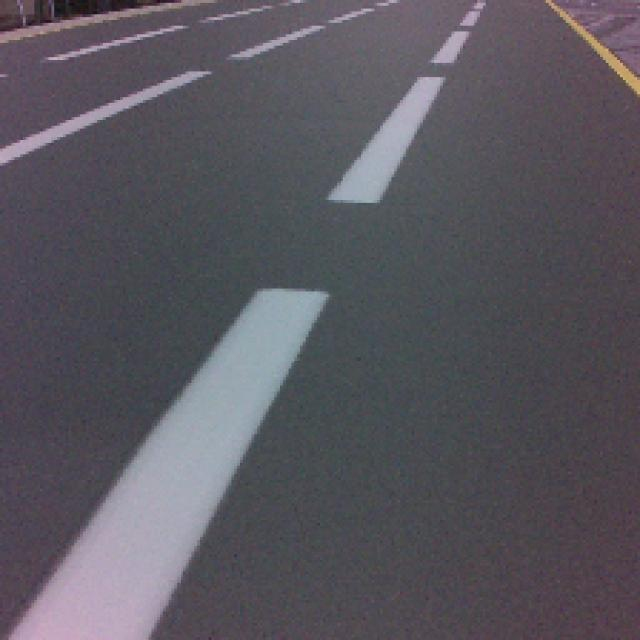Road: (153, 298, 640, 640)
